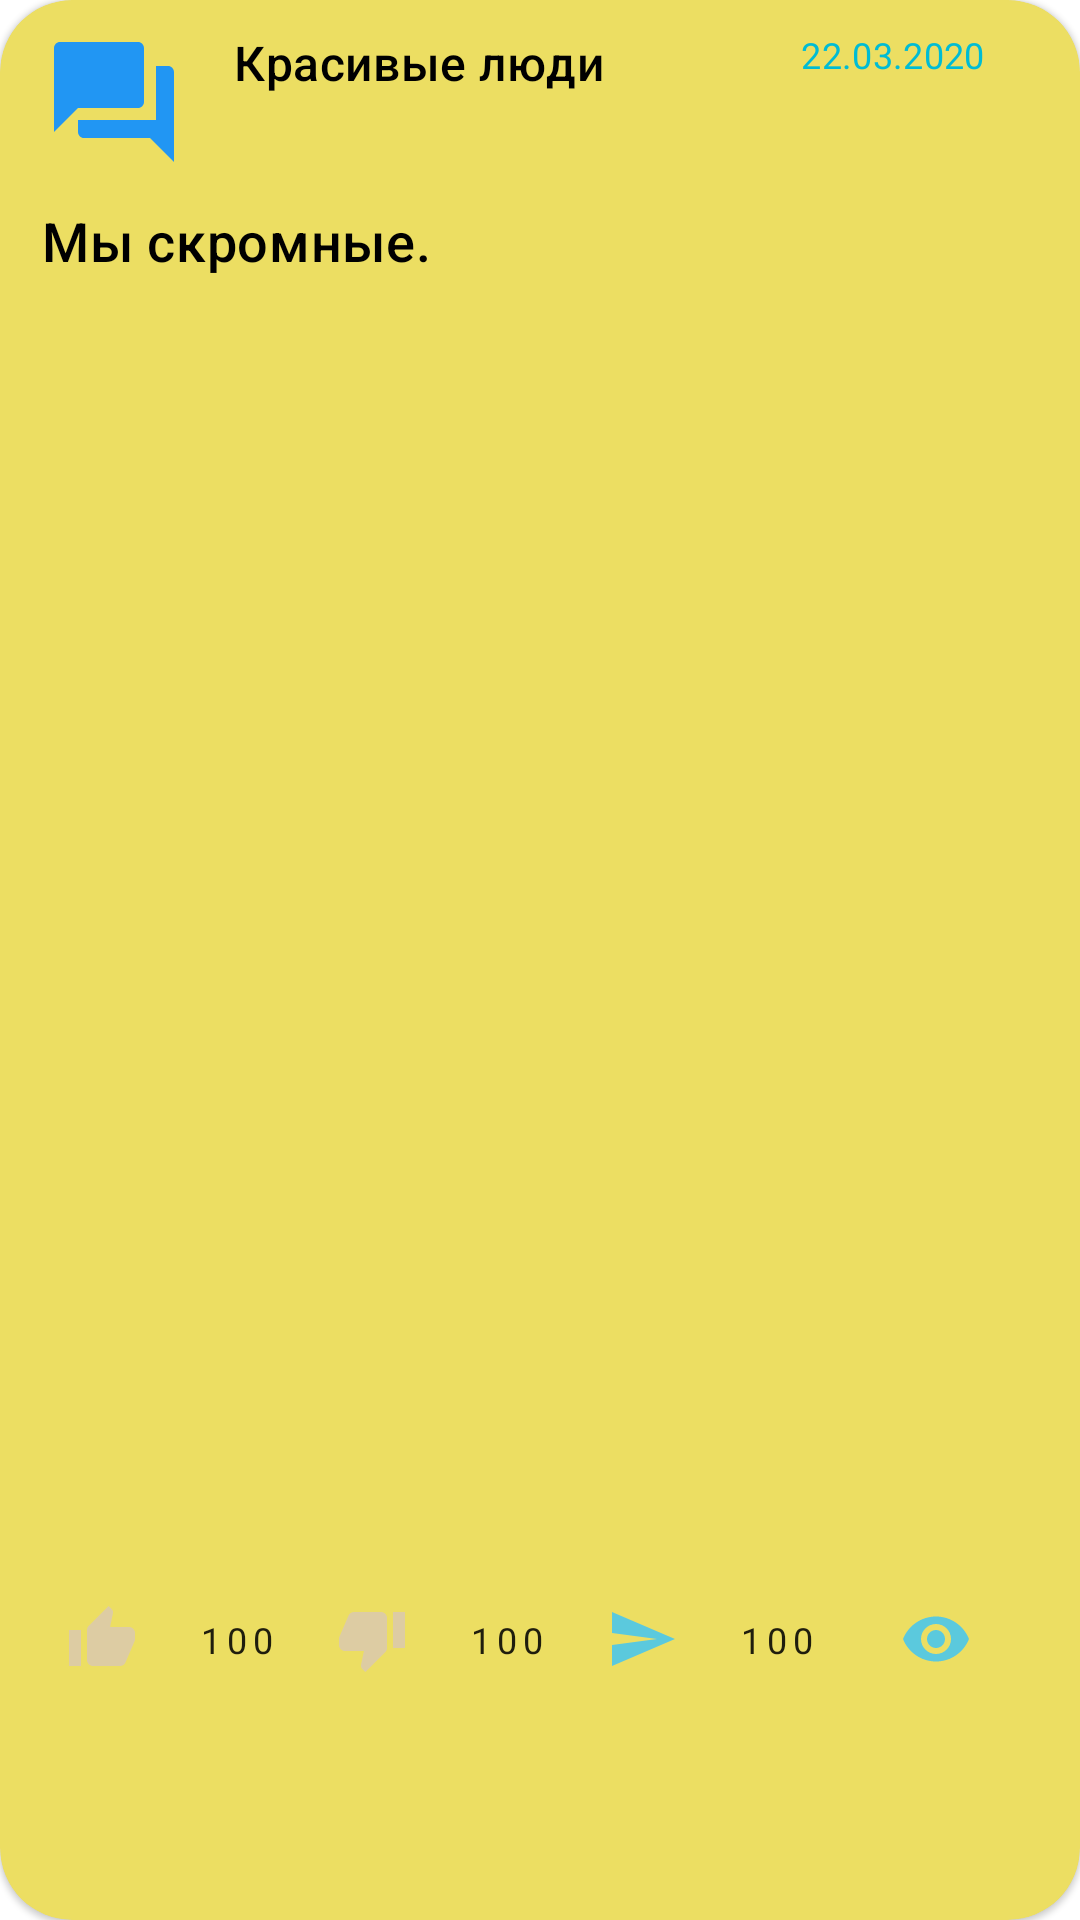

Named icons in this screenshot (1080px x 1920px) and their bounding boxes, (x1, y1, x2, y2):
question answer: (54, 42, 174, 162)
thumb down defualt: (339, 1612, 405, 1672)
thumb up defualt: (69, 1606, 135, 1666)
visibility: (903, 1616, 969, 1662)
